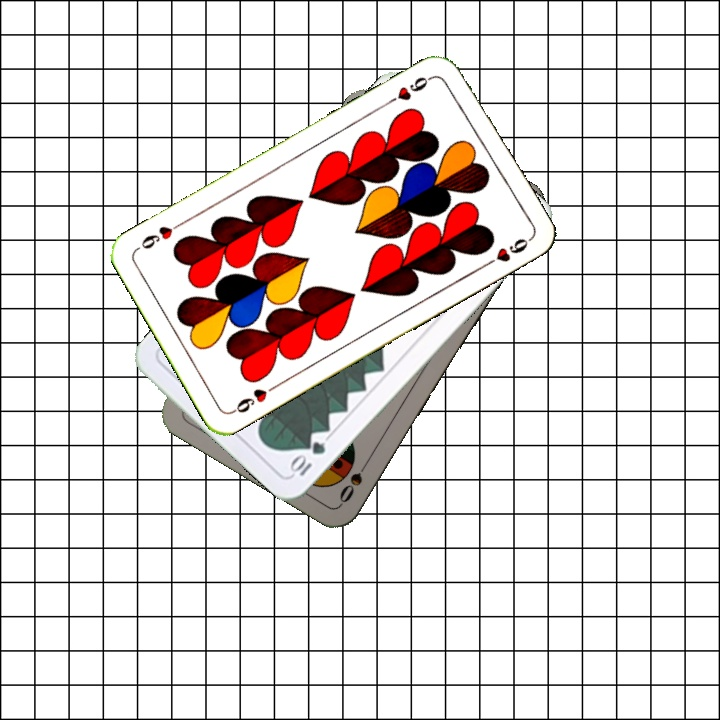G10: (286, 437, 329, 480)
H9: (227, 380, 281, 416), (383, 71, 437, 107)
SO: (335, 453, 374, 506)
